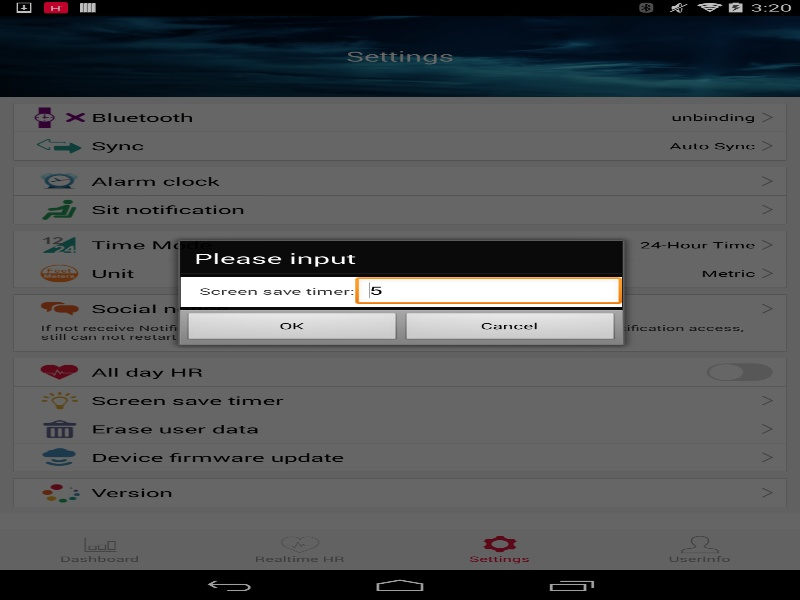Button: (183, 312, 401, 342), (401, 312, 619, 342)
Input: (355, 276, 622, 306)
